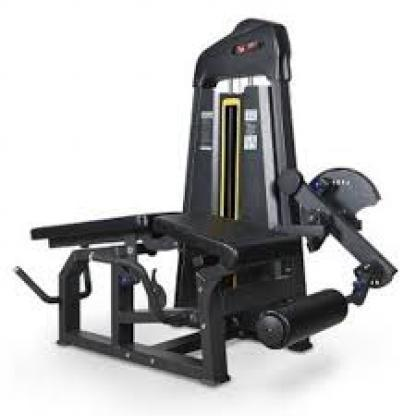reg curl machine: (13, 14, 400, 394)
